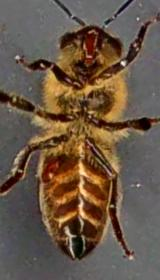varroa_mite: (38, 153, 66, 192)
